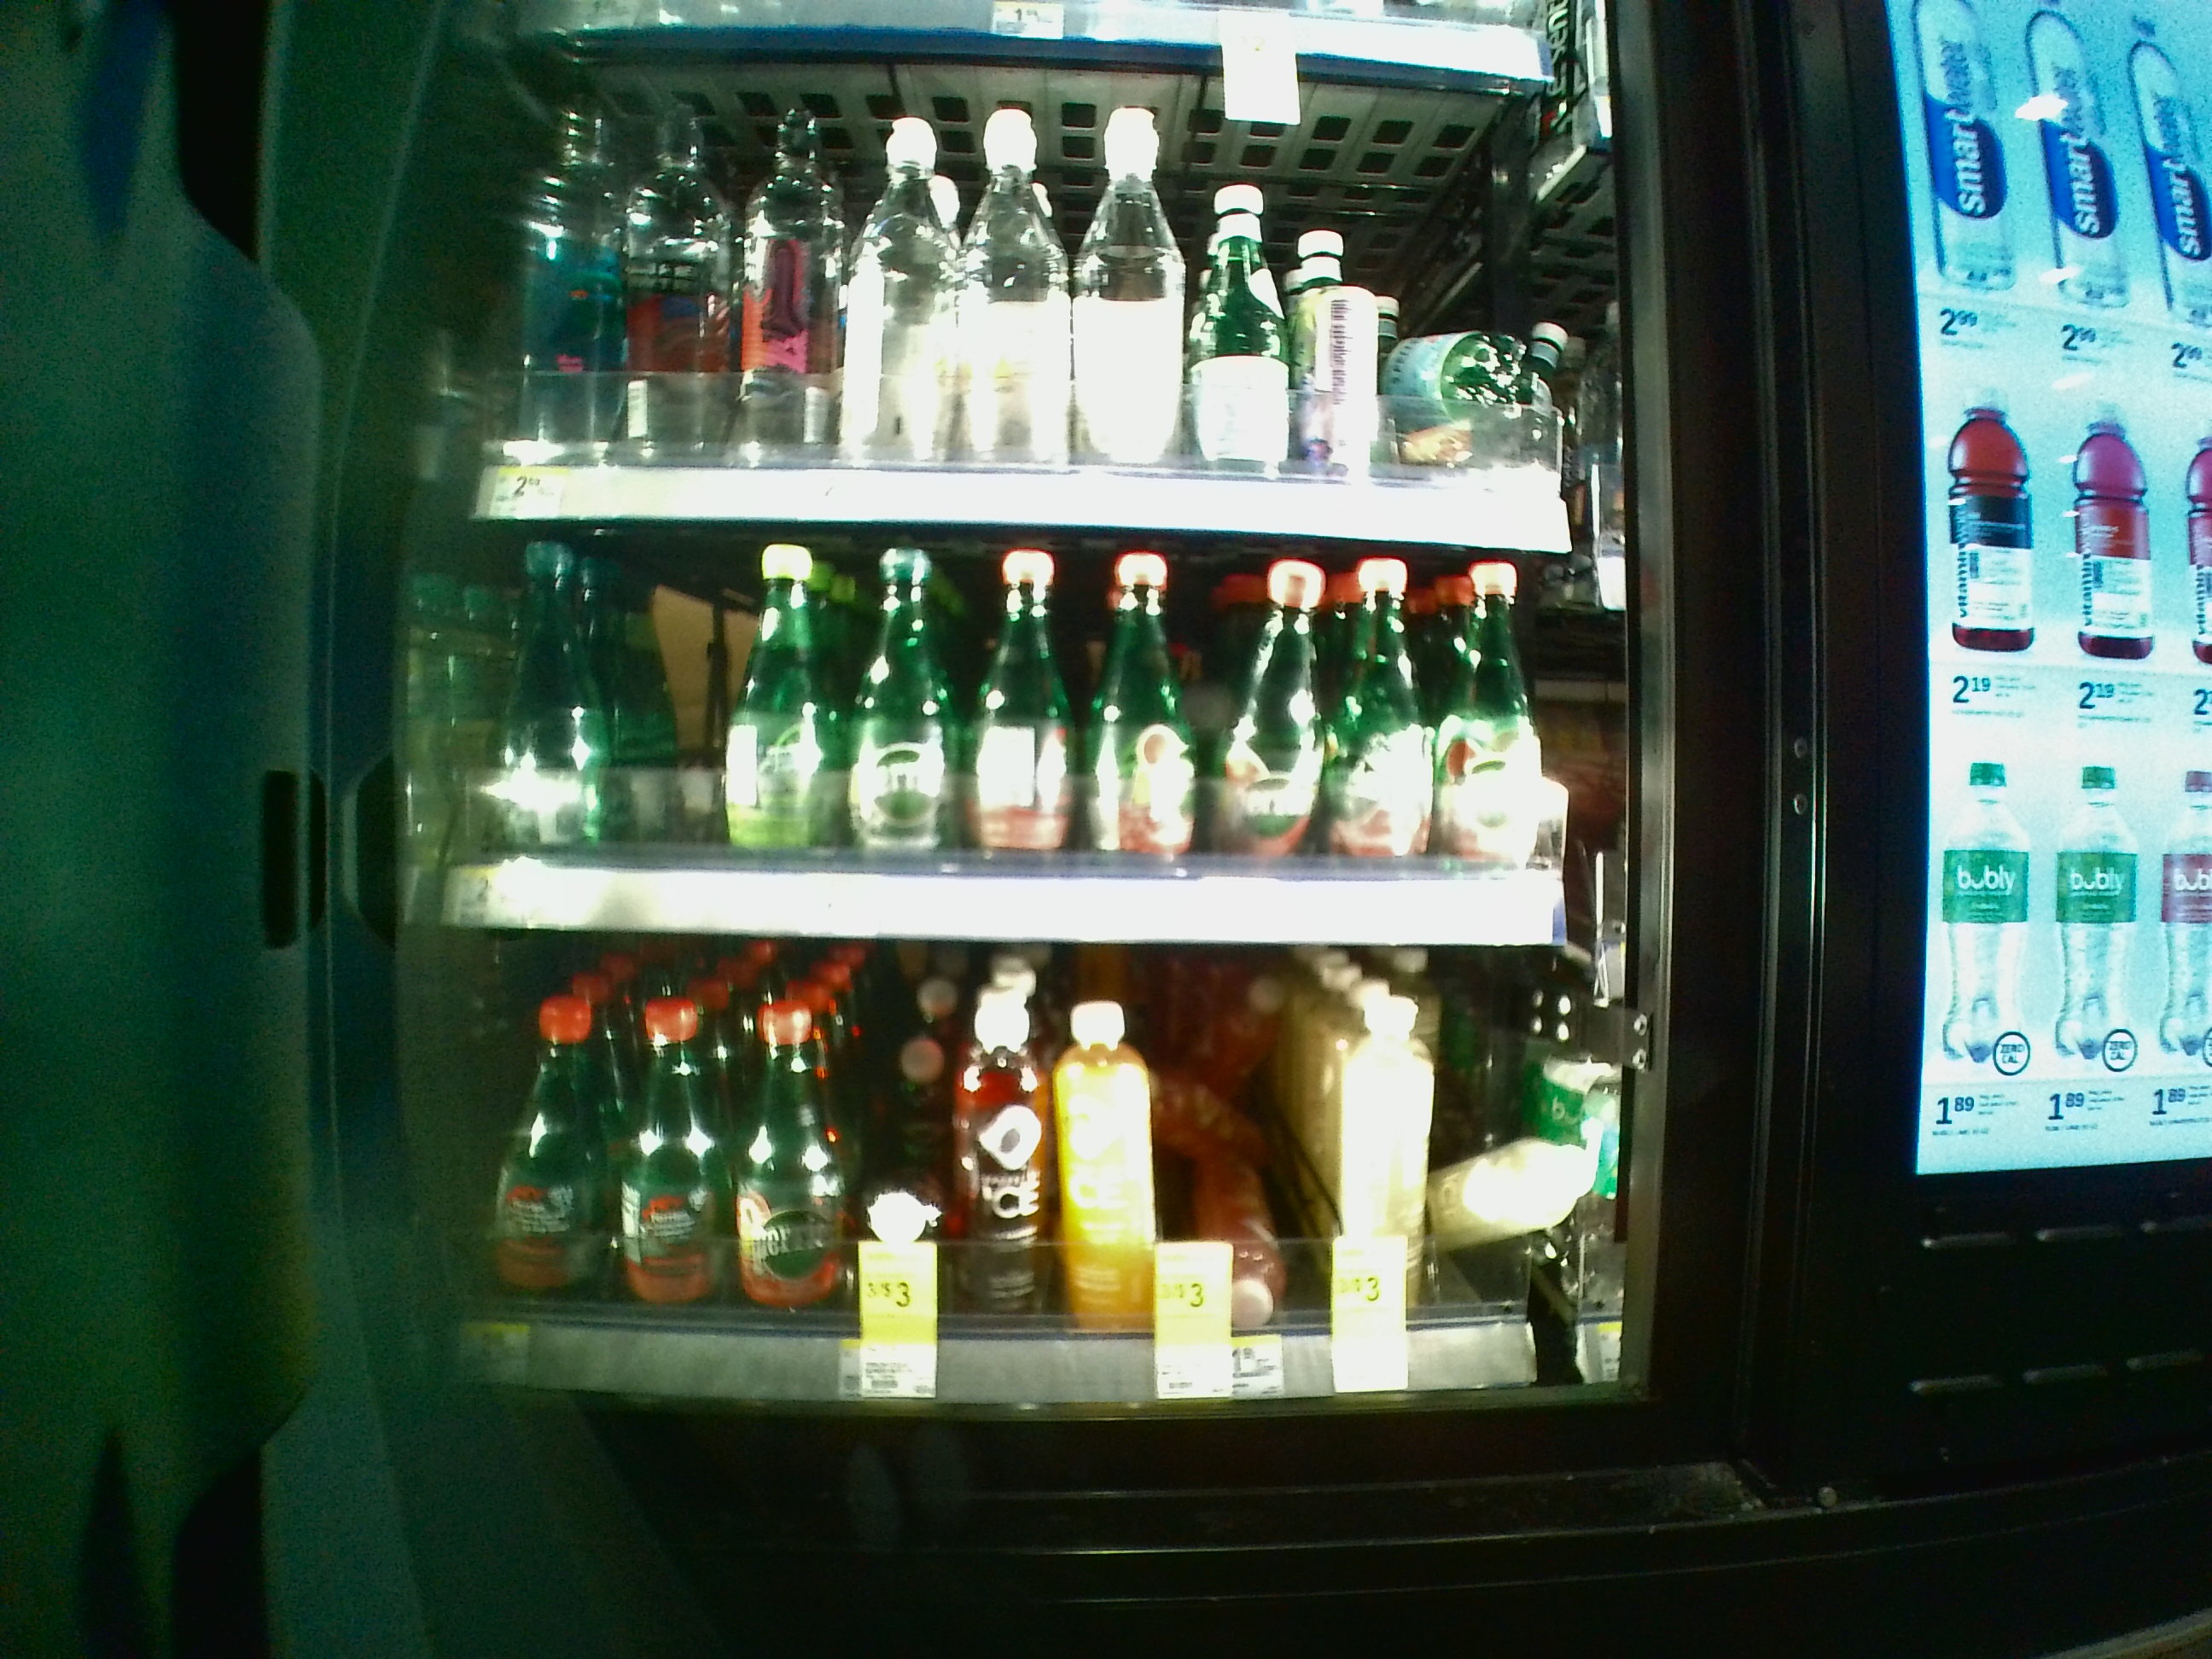shelf: (474, 33, 1590, 540), (415, 950, 1606, 1406), (420, 540, 1611, 950)
